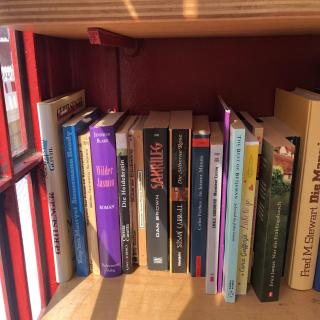book-spine: (289, 100, 320, 291), (258, 145, 295, 304), (37, 102, 69, 283), (90, 126, 122, 278), (269, 134, 301, 278), (233, 141, 259, 296), (62, 125, 88, 277), (144, 128, 169, 271), (225, 128, 245, 303), (242, 127, 264, 283), (167, 129, 190, 274), (190, 134, 210, 277), (205, 144, 223, 294), (115, 134, 133, 275), (82, 138, 100, 275), (217, 111, 230, 293), (78, 136, 94, 272), (134, 131, 147, 266), (129, 130, 138, 264)
